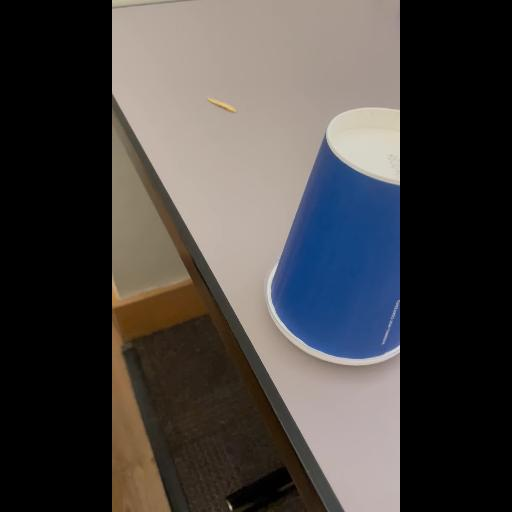lp_paper_cup: (246, 98, 400, 364)
